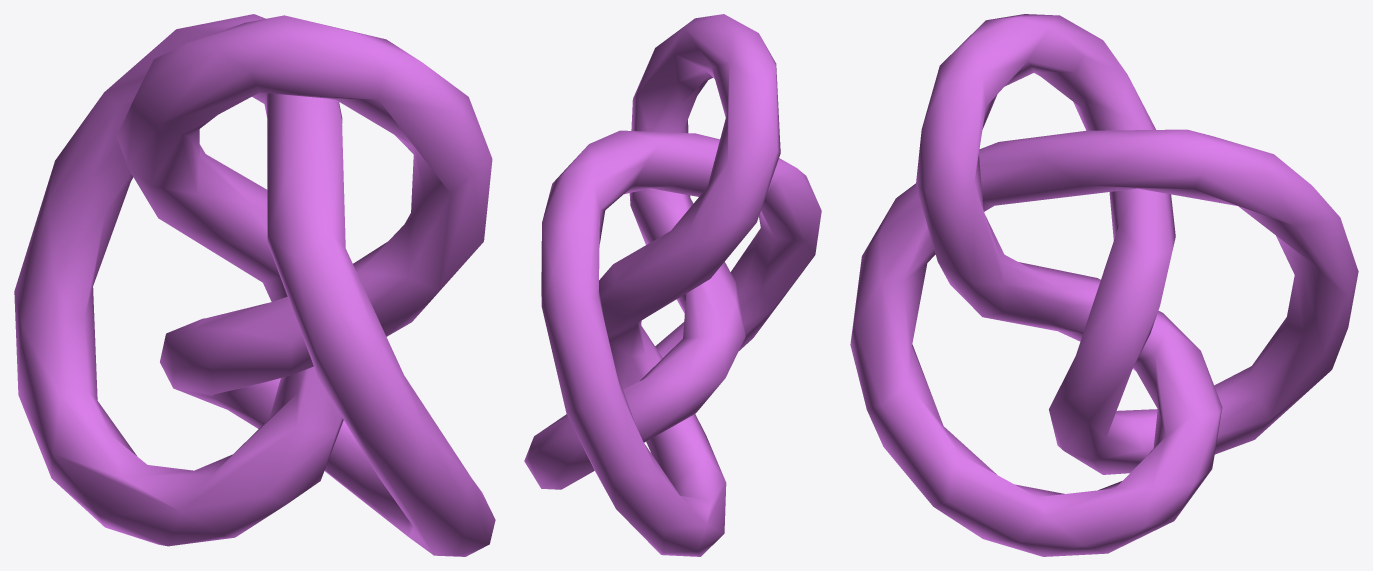
Rendered from knot_sculpture_knot002.gltf.
3 renders of one model, left to right at view 1: azimuth 30°, elevation 25°; view 2: azimuth 150°, elevation 25°; view 3: azimuth 270°, elevation 25°, orthographic. The views are drawn at different scales.
Visible parts, largest first — view 1: Knot.002; view 2: Knot.002; view 3: Knot.002.
Boxes of the visible parts, left/top/right/bottom form: Knot.002: left=14, top=14, right=495, bottom=556; Knot.002: left=524, top=14, right=821, bottom=556; Knot.002: left=850, top=14, right=1358, bottom=556.
Size of the model in its own units: 0.797 by 1.45 by 1.42.
